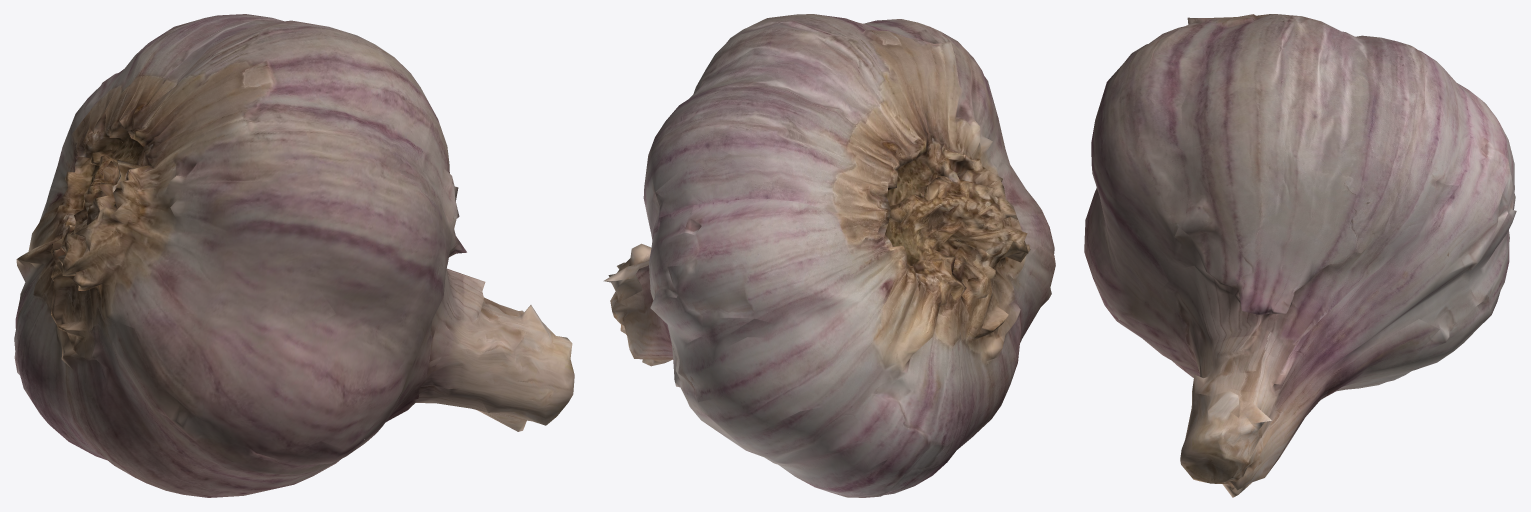
The model's file is Garlic.gltf.
3 views of the same model, side by side, from view 1: azimuth 30°, elevation 25°; view 2: azimuth 150°, elevation 25°; view 3: azimuth 270°, elevation 25° (orthographic). The views are drawn at different scales.
Parts seen in each view (by area): view 1: node_GarlicLOD1_-156680; view 2: node_GarlicLOD1_-156680; view 3: node_GarlicLOD1_-156680.
Part boxes in pixels (bbox=[...]): node_GarlicLOD1_-156680: bbox=[14, 14, 574, 497]; node_GarlicLOD1_-156680: bbox=[603, 14, 1055, 497]; node_GarlicLOD1_-156680: bbox=[1084, 14, 1516, 497].
Bounding box in the file's own units: 0.034 × 0.0302 × 0.0305.
1 material, 1 textured.
